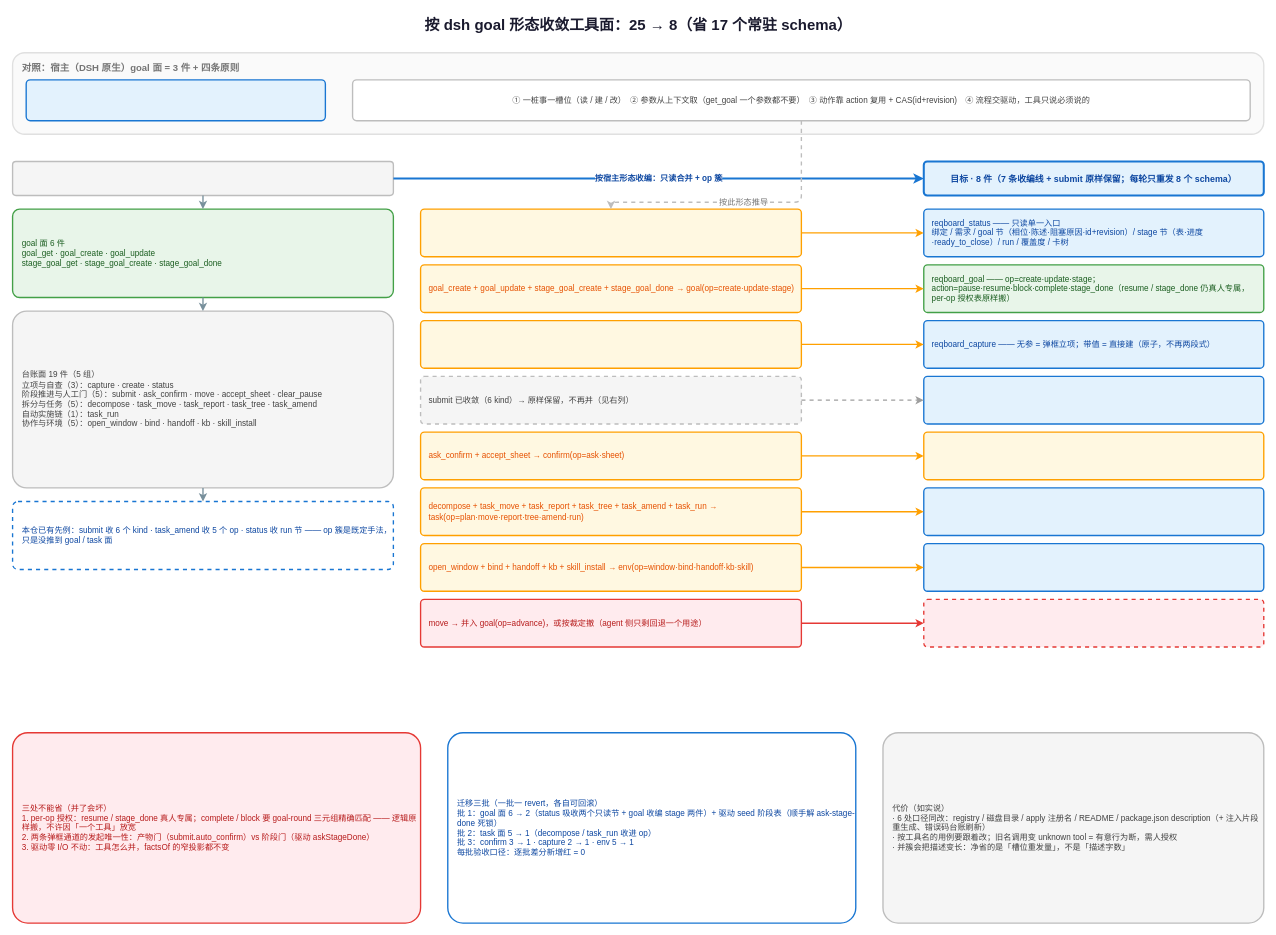
The diagram is 1276 pixels wide and 935 high, and some of its shapes have lost their labels. The shapes that lost their labels are listed below. From the top down, each one's centre as x and y in pixels, then its label:
the point at 175,100: create_goal(objective) · get_goal()（无参） · update_goal(id, revision, action, …)
the point at 203,178: 现在 · 25 件（tool-pm 19 + tool-pm-goal 6）
the point at 611,232: goal_get + stage_goal_get → 并进 status 只读节
the point at 611,344: capture + create → capture（无参弹框 / 带值直建）
the point at 1093,399: reqboard_submit —— 产物 6 kind（已收敛，只做登记 + 挂门）
the point at 1093,455: reqboard_confirm —— op=ask·sheet；ticket 取回执（两条建门通道的发起唯一性要先定）
the point at 1093,511: reqboard_task —— op=plan·move·report·tree·amend·run（amend 的 5 个 op 降为参数）
the point at 1093,567: reqboard_env —— op=window·bind·handoff·kb·skill
the point at 1093,622: （第 8 位 = move 的归属：并入 goal(op=advance) 或撤 —— 待定夺）
